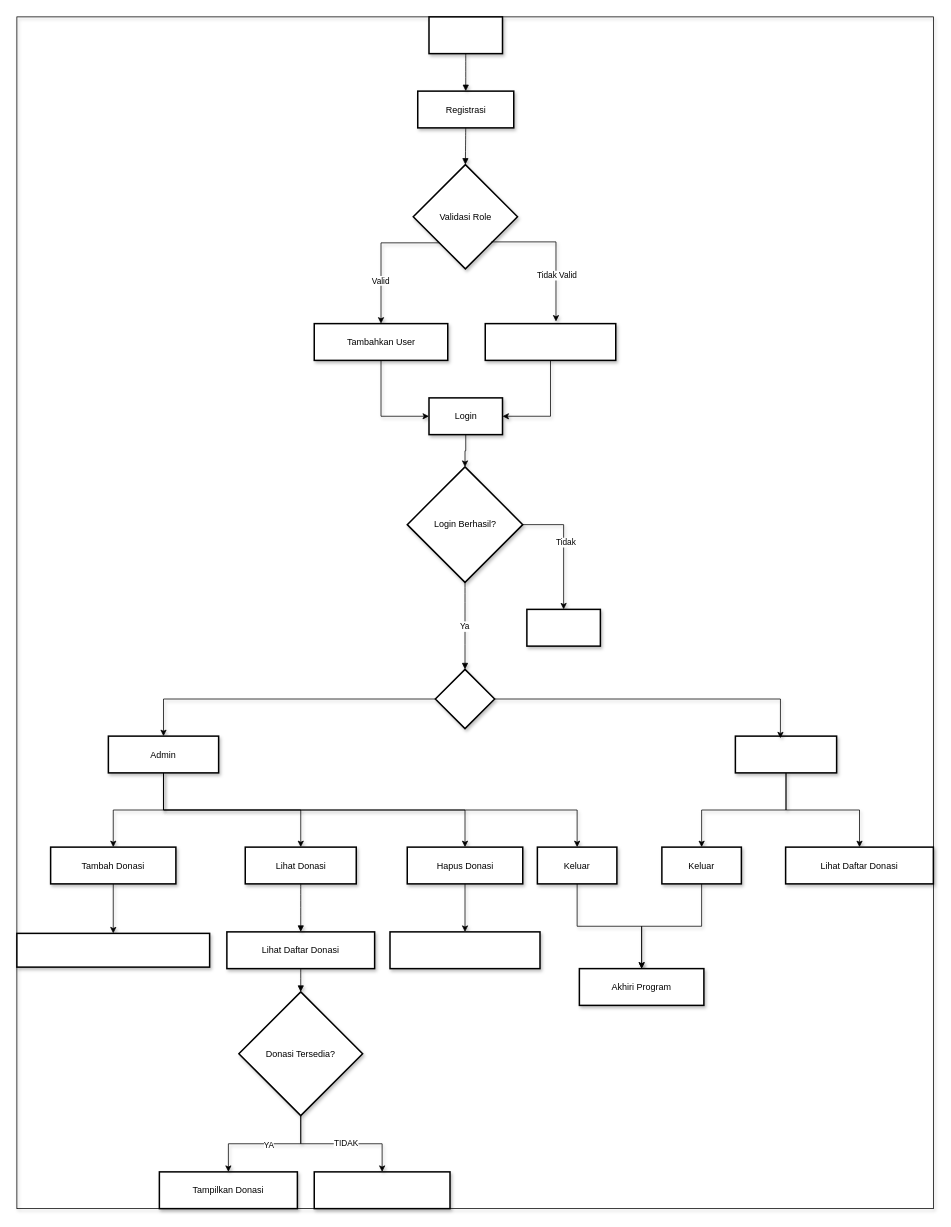
Some shapes in this 951 by 1227 pixel diagram are drawn without their labels. The shapes that lost their labels are listed below. From the top down, each one's centre as x and y in pixels, then its label:
At [466,36]: "Mulai".
At [551,343]: "Gagal Registrasi".
At [564,628]: "Kembali Login".
At [465,699]: "Role".
At [786,755]: "User".
At [113,951]: "Input Nama Donatur & Jumlah Donasi".
At [465,951]: "Input Nomor Donasi".
At [382,1191]: "Tidak Ada Donasi".
